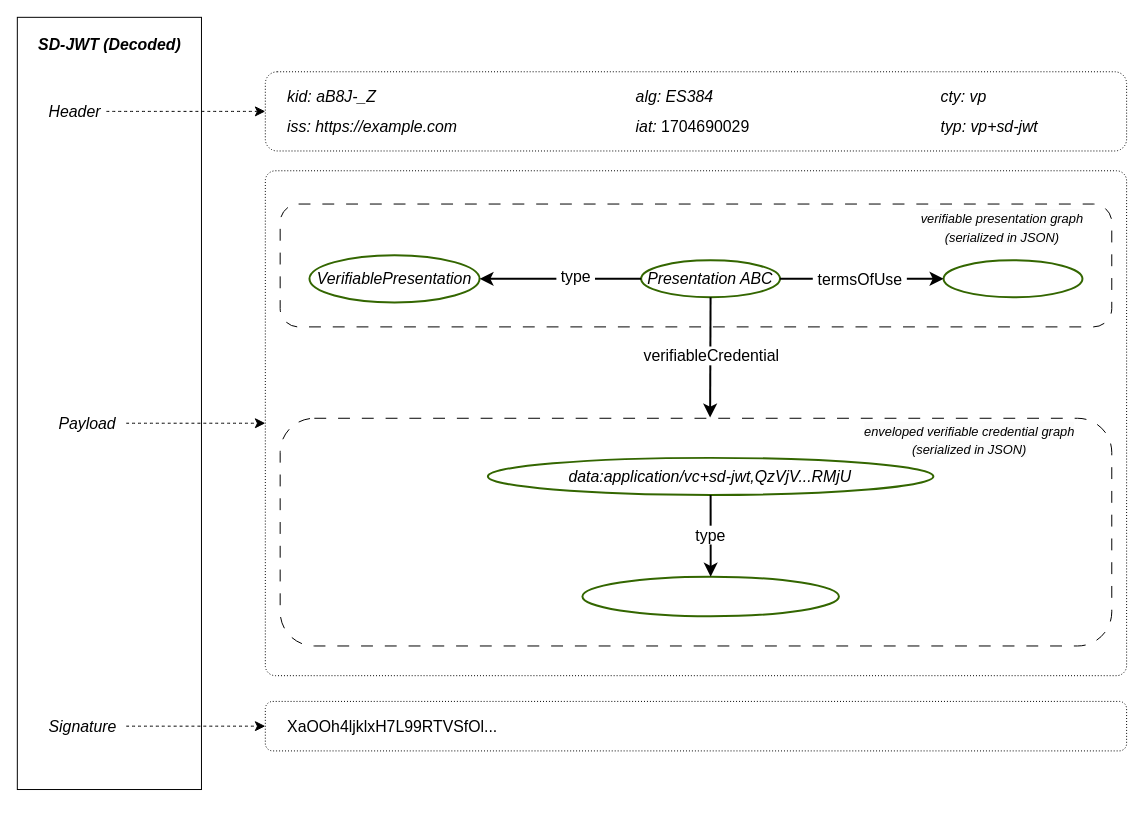
This 1144x817 diagram has some shape labels left out. Each missing label, with the centre of its shape:
"DoNotArchive" goes at point (1012, 278).
"EnvelopedVerifiableCredential" goes at point (710, 596).
